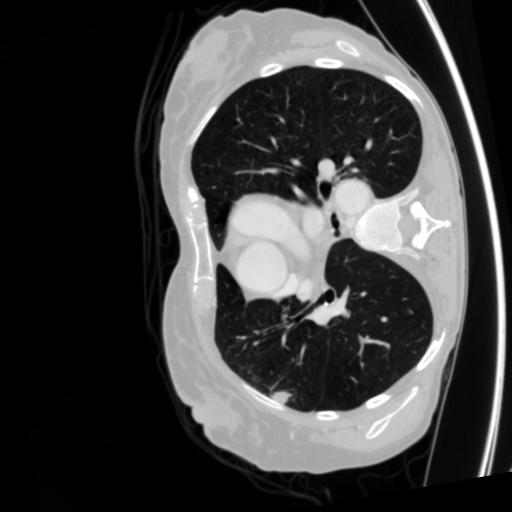nodule: (268, 386, 293, 411)
